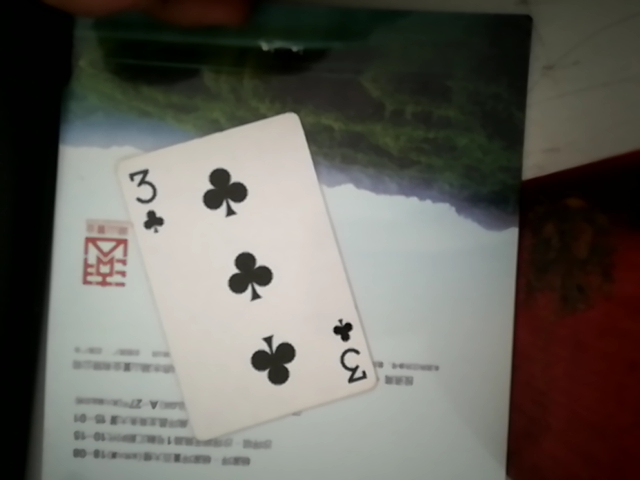mh 3: (112, 108, 378, 444)
